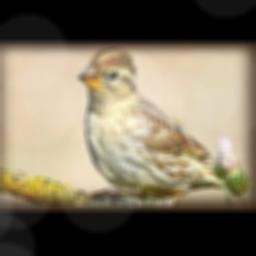Sparrow: (78, 48, 237, 202)
